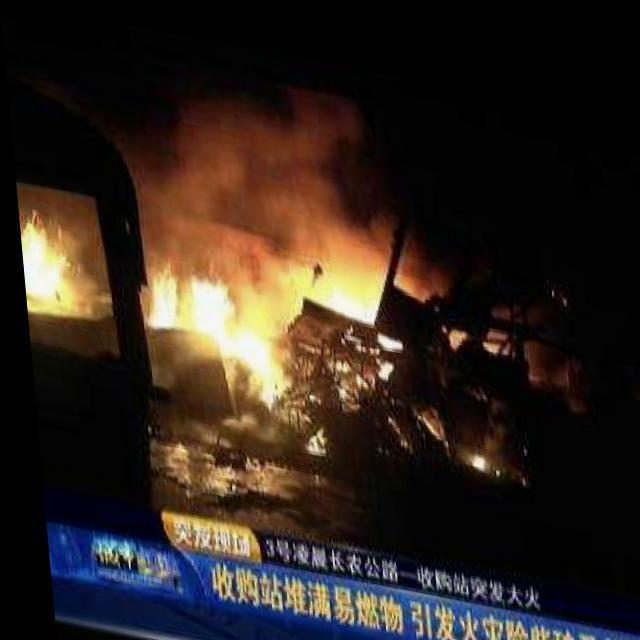Fire: (140, 246, 281, 394), (297, 243, 418, 343)
